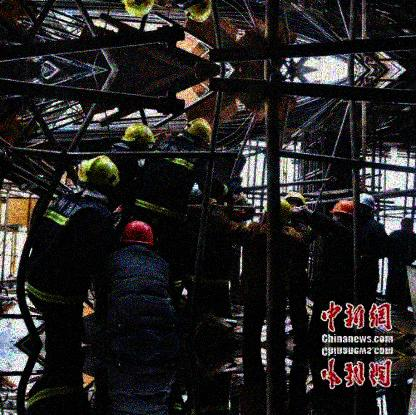helmet: (121, 122, 153, 154), (328, 199, 352, 224), (358, 192, 374, 217)
